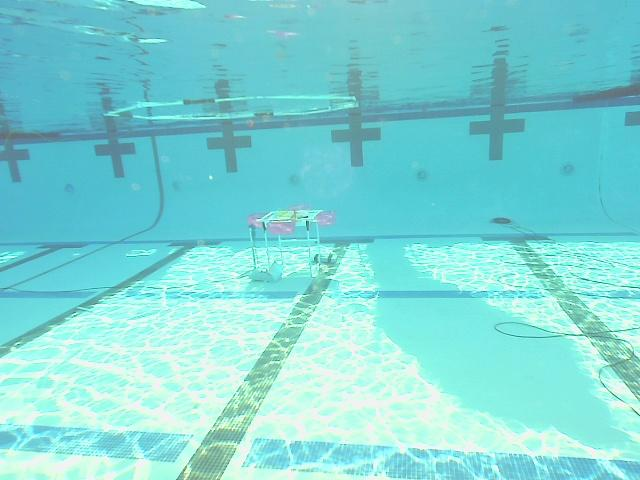table: (247, 202, 336, 280)
